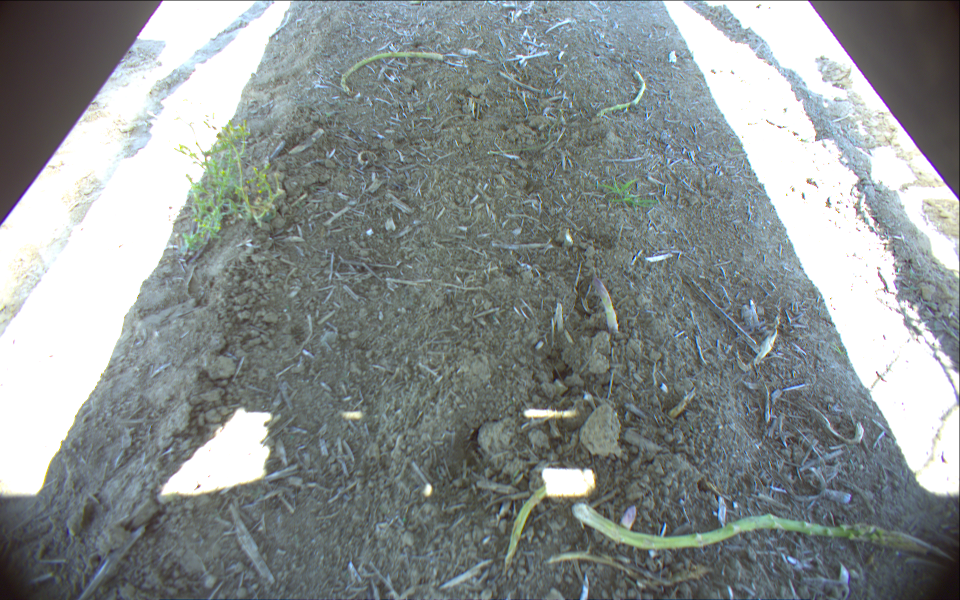aspa: (583, 273, 621, 337)
